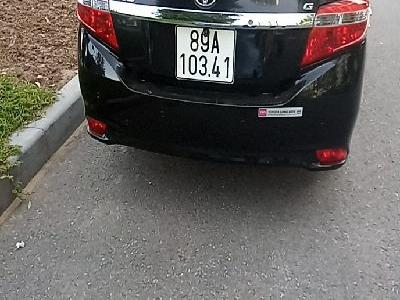car: (174, 25, 237, 85)
